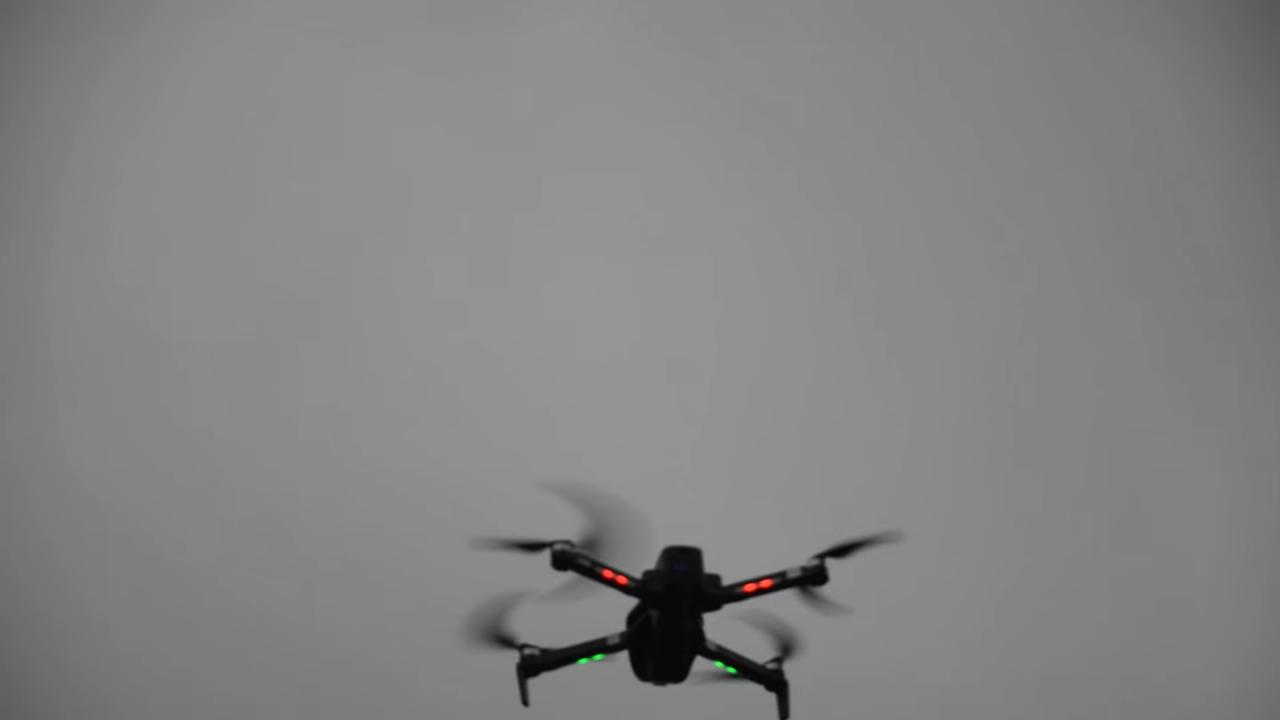Drone: (453, 466, 913, 720)
